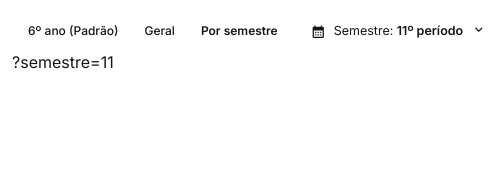
FiltroSemestre (spec §4.5) › trocar de "Por semestre" para outro segmento fecha o dropdown e volta a gravar o recorte
The image size is (500, 172).
Click the radio button labelled "Geral".
click(160, 31)  # box [131,15,188,47]
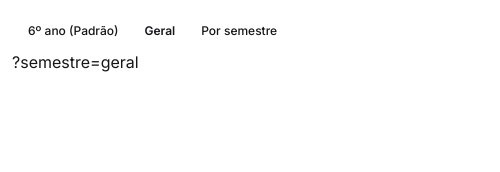
Expected: the text with test id "search" reads "?semestre=geral", [12,52,139,72]
Expected: the dropdown is gone
